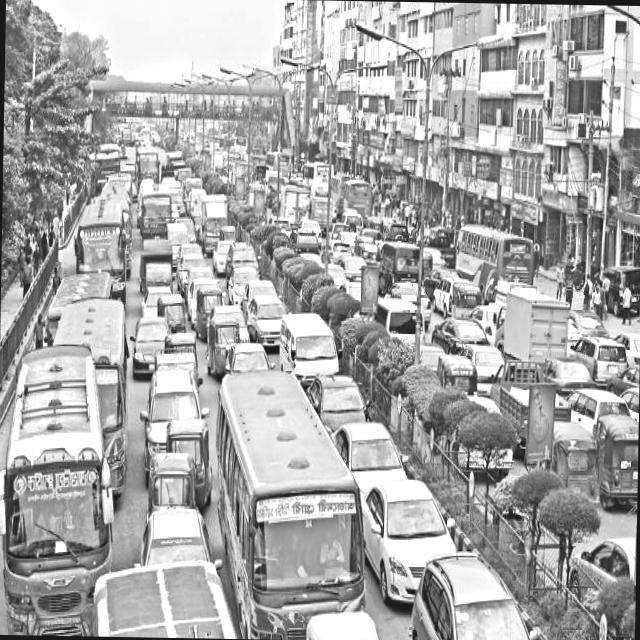bus: (212, 369, 363, 606), (2, 342, 102, 632), (78, 294, 132, 504), (94, 556, 230, 634), (457, 220, 536, 274), (79, 198, 125, 270), (60, 269, 111, 298), (142, 183, 168, 234), (346, 178, 374, 208), (125, 207, 134, 273), (138, 148, 160, 175), (97, 147, 121, 171), (304, 160, 329, 178), (102, 182, 132, 194), (332, 175, 346, 196), (269, 150, 292, 162), (231, 134, 248, 150), (110, 169, 132, 177), (106, 178, 132, 184), (124, 126, 132, 136), (210, 124, 214, 130)
car: (408, 547, 540, 639), (365, 474, 459, 554), (128, 498, 222, 558), (570, 532, 636, 599), (452, 392, 499, 462), (346, 415, 412, 464), (145, 367, 204, 418), (315, 370, 372, 417), (130, 312, 156, 368), (586, 330, 621, 368), (230, 338, 276, 366), (254, 292, 282, 338), (572, 384, 618, 412), (436, 314, 478, 342), (553, 354, 587, 381), (229, 238, 262, 264), (478, 341, 493, 391), (290, 228, 320, 250), (436, 278, 454, 314), (579, 308, 611, 328), (609, 364, 636, 386), (247, 275, 280, 292), (142, 284, 160, 312), (214, 238, 228, 274), (394, 277, 426, 292), (230, 264, 244, 298), (627, 328, 640, 364), (384, 220, 410, 238), (422, 340, 438, 366), (324, 238, 350, 253), (482, 300, 493, 334), (188, 264, 214, 278), (342, 278, 362, 296), (348, 253, 363, 277), (213, 300, 242, 311), (192, 277, 222, 287), (270, 213, 290, 228), (427, 265, 439, 289), (328, 260, 347, 274), (184, 250, 209, 260), (330, 218, 350, 228), (344, 208, 364, 218), (190, 214, 197, 240), (179, 186, 186, 212), (302, 215, 320, 225), (135, 134, 153, 142), (338, 227, 356, 235), (180, 241, 202, 247), (133, 177, 137, 203), (193, 202, 199, 212), (334, 203, 338, 216)
motorcycle: (600, 412, 638, 506), (553, 423, 597, 496), (148, 450, 198, 508), (306, 606, 386, 636), (166, 413, 212, 447), (440, 349, 476, 386), (209, 315, 240, 342), (453, 276, 482, 304), (168, 289, 188, 329), (198, 286, 212, 332), (166, 329, 198, 344), (220, 222, 240, 236), (360, 240, 380, 250), (424, 250, 433, 271), (369, 213, 384, 223), (356, 234, 376, 240), (217, 161, 226, 171), (410, 233, 420, 239), (123, 142, 127, 151)
truck: (502, 288, 570, 352), (280, 310, 342, 368), (496, 354, 530, 406), (379, 240, 422, 280), (608, 262, 640, 315), (380, 294, 426, 329), (142, 237, 174, 283), (154, 342, 200, 364), (280, 183, 310, 216), (204, 188, 232, 220), (439, 233, 456, 260), (312, 196, 333, 217), (234, 159, 252, 173), (168, 149, 187, 161), (270, 172, 278, 198), (498, 278, 506, 302), (252, 152, 267, 161), (192, 184, 204, 194), (213, 150, 224, 158), (178, 164, 192, 170)
